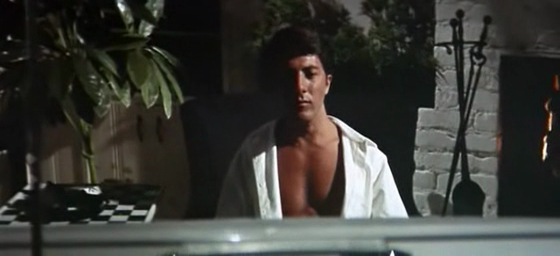face: (282, 63, 325, 121)
ms: (1, 1, 560, 256)
person: (212, 21, 411, 220)
